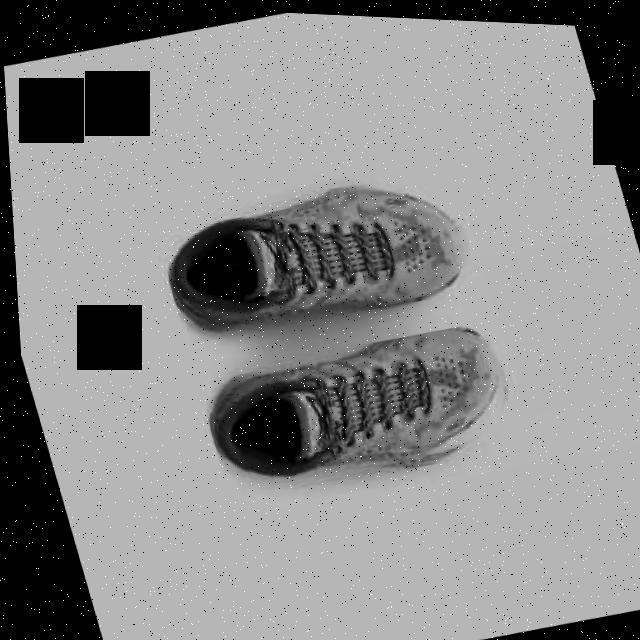shoe: (187, 305, 523, 510), (146, 154, 481, 353)
